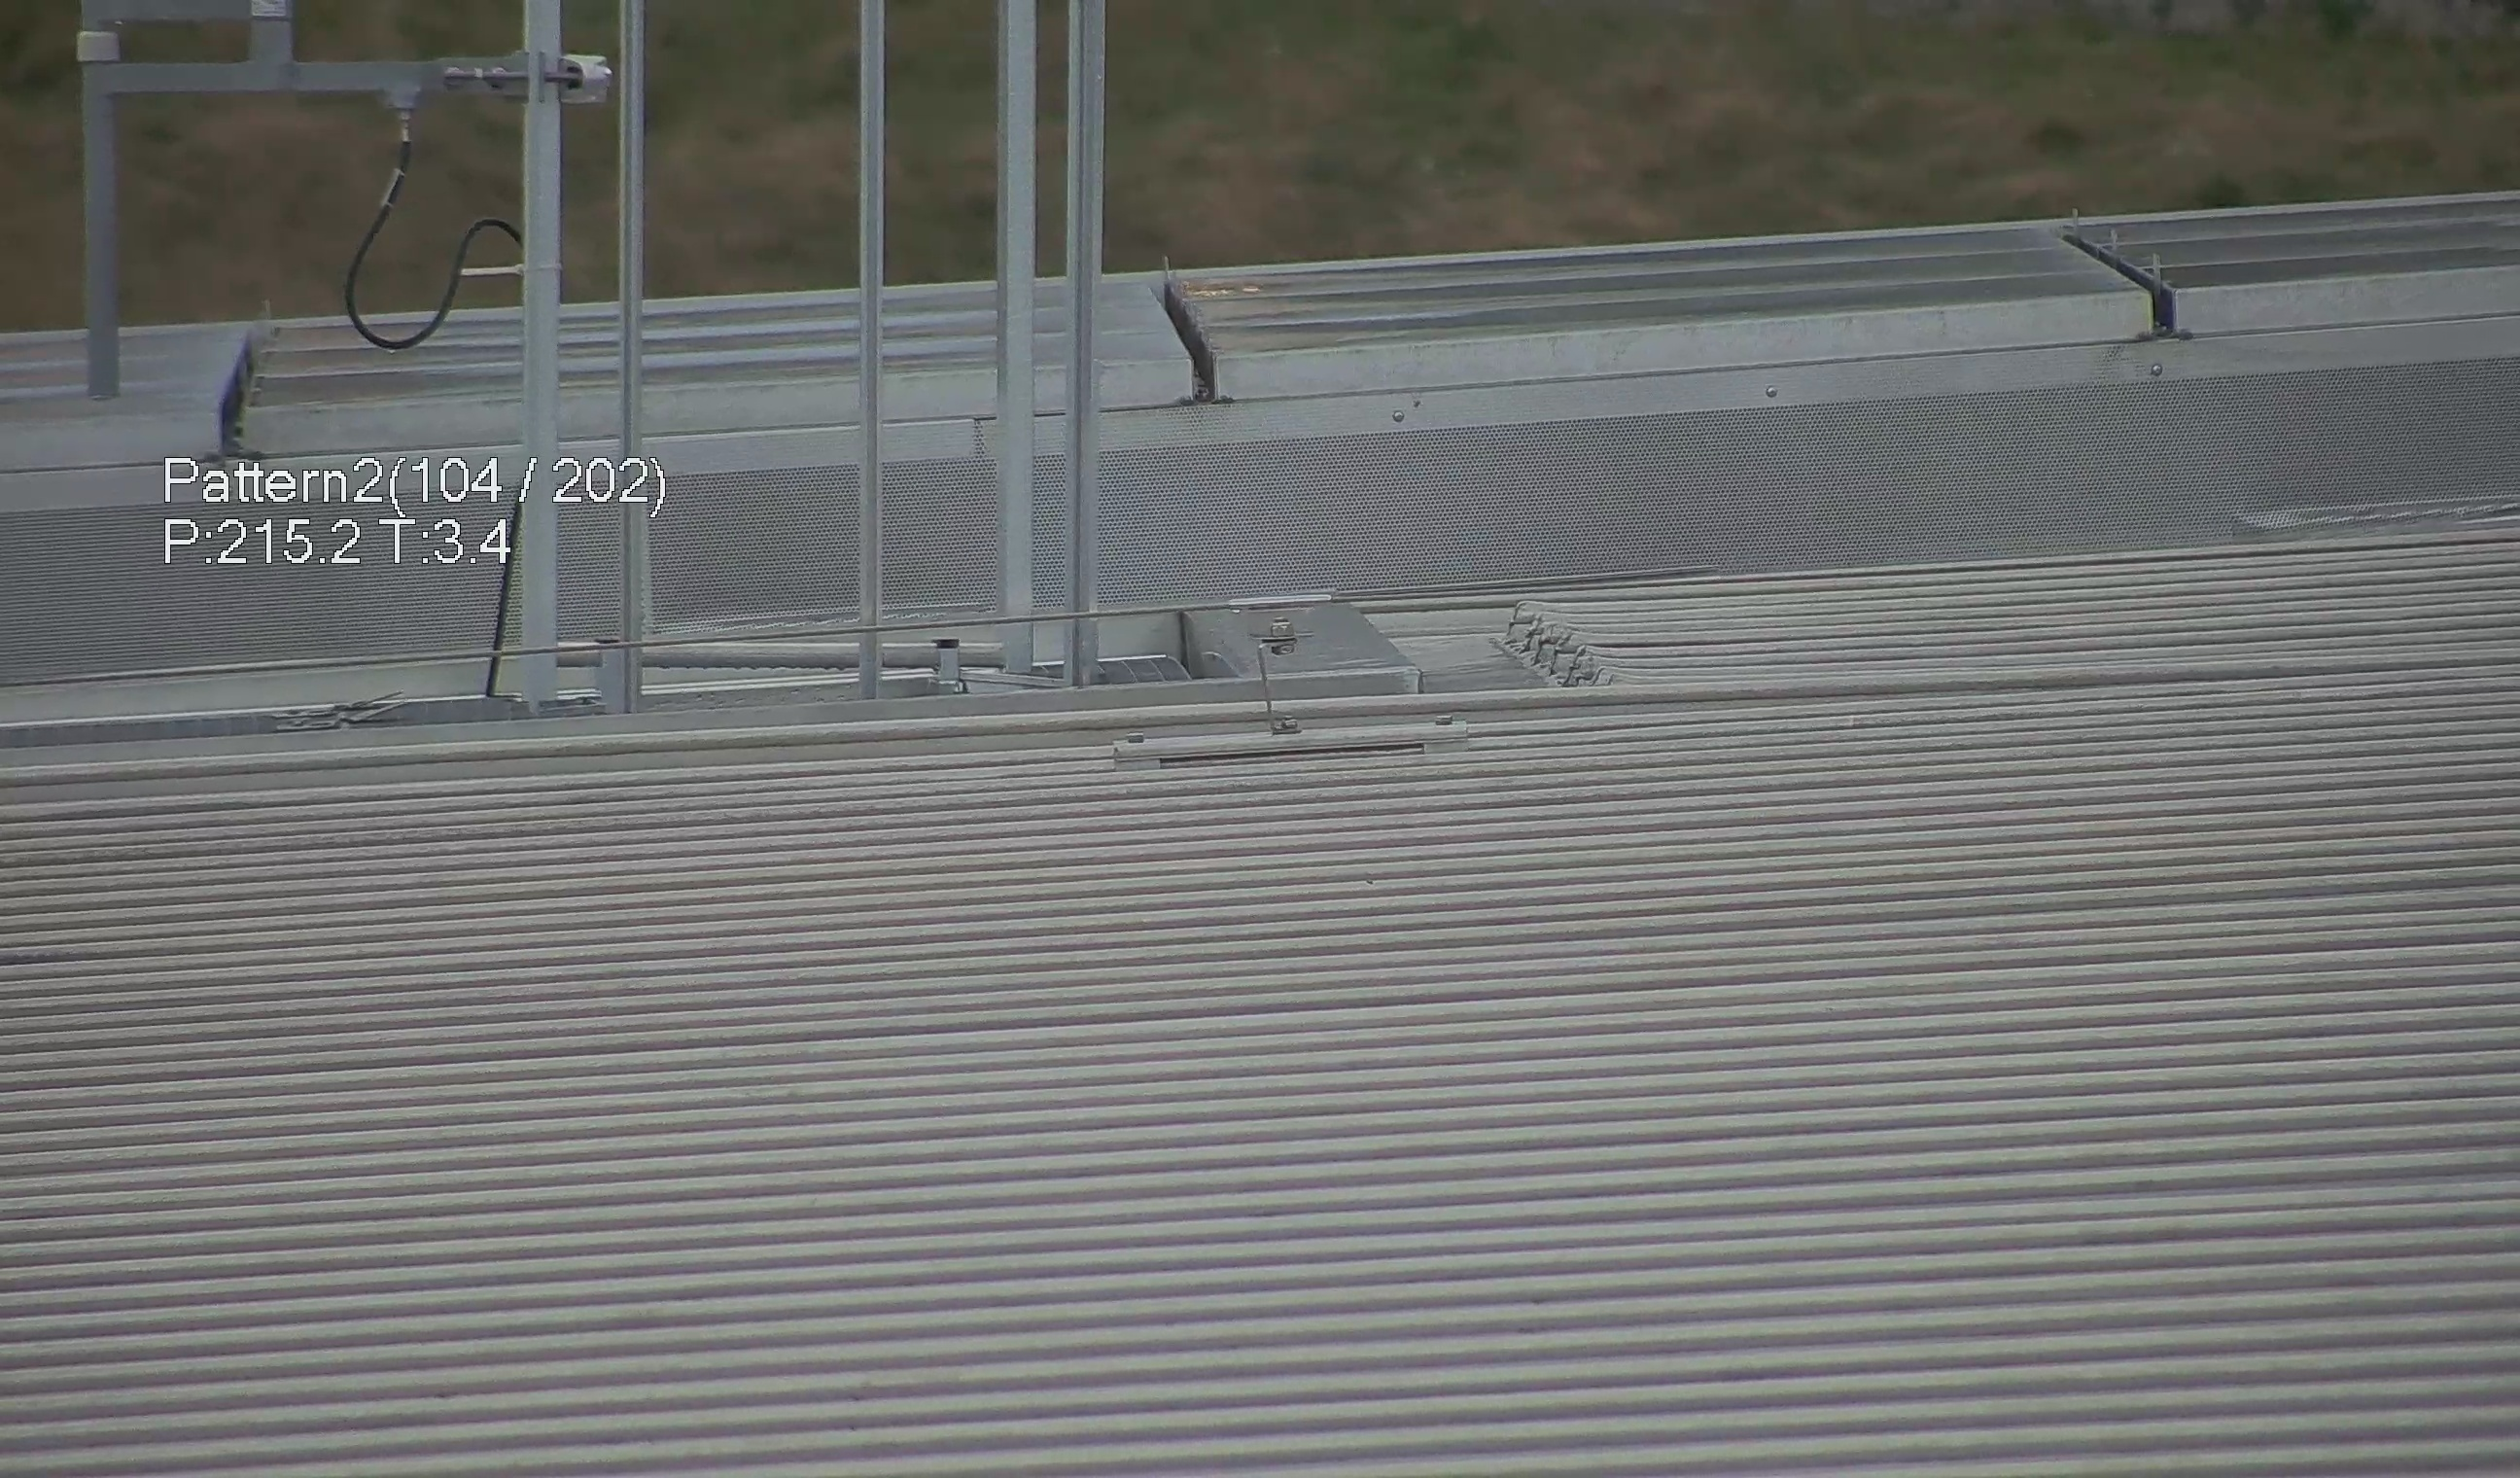Other: (1140, 260, 1238, 403)
